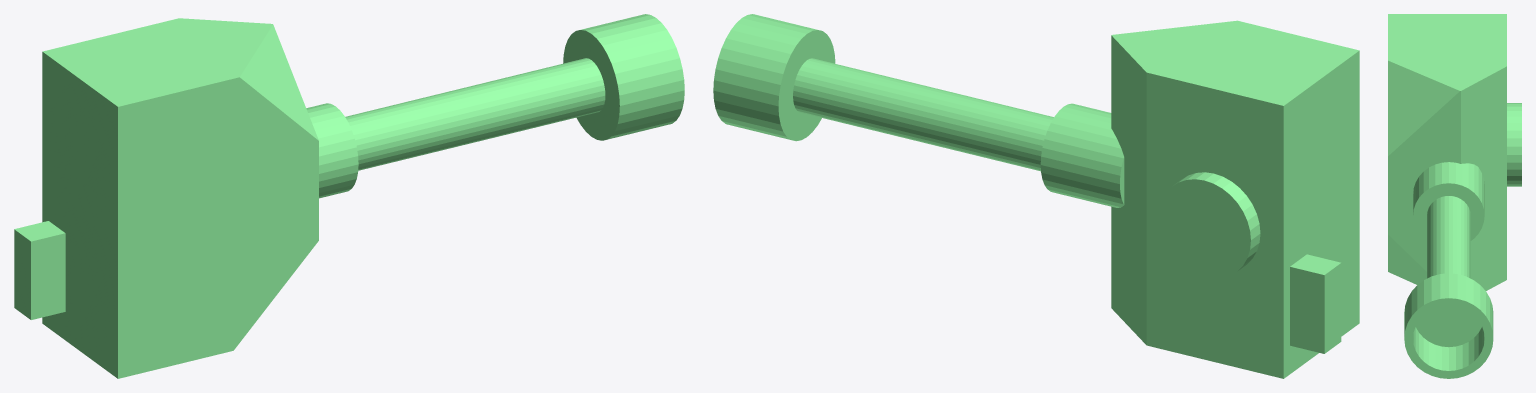
Rendered from Enemy04Head.fbx.
The picture shows the model from 3 angles, left to right: view 1: azimuth 30°, elevation 25°; view 2: azimuth 150°, elevation 25°; view 3: azimuth 270°, elevation 25°; orthographic projection. The views are drawn at different scales.
Visible parts, largest first — view 1: Head; view 2: Head; view 3: Head.
Boxes of the visible parts, x1=… form: Head: x1=14, y1=14, x2=684, y2=378; Head: x1=713, y1=14, x2=1359, y2=378; Head: x1=1388, y1=14, x2=1521, y2=378.
Size of the model in its own units: 212 by 90.14 by 51.11.
Materials: 1 (1 with a texture image).
